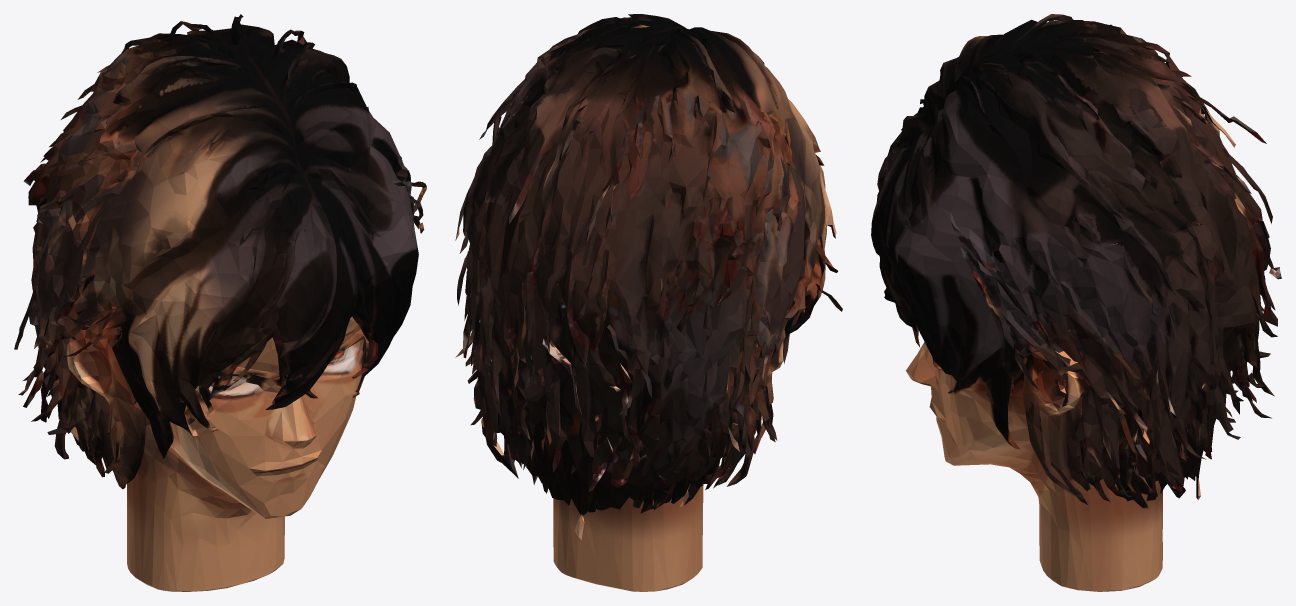
The model's file is side_sadanobu_repaired_atlas.glb.
3 views of the same model, side by side, from view 1: azimuth 30°, elevation 25°; view 2: azimuth 150°, elevation 25°; view 3: azimuth 270°, elevation 25° (orthographic). The views are drawn at different scales.
Visible parts, largest first — view 1: temp_mesh.ply; view 2: temp_mesh.ply; view 3: temp_mesh.ply.
Boxes of the visible parts, left/top/right/bottom form: temp_mesh.ply: left=14, top=14, right=426, bottom=591; temp_mesh.ply: left=455, top=14, right=842, bottom=591; temp_mesh.ply: left=871, top=14, right=1281, bottom=591.
Size of the model in its own units: 1.4 by 1.97 by 1.41.
1 material, 1 textured.
